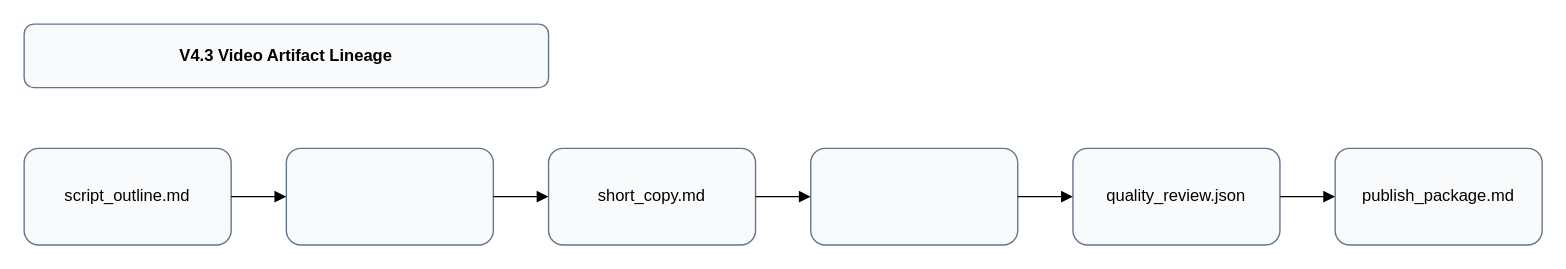
This 1566x269 diagram has some shape labels left out. Each missing label, with the centre of its shape:
editing_plan.md: [913,196]
storyboard.md: [389,196]
